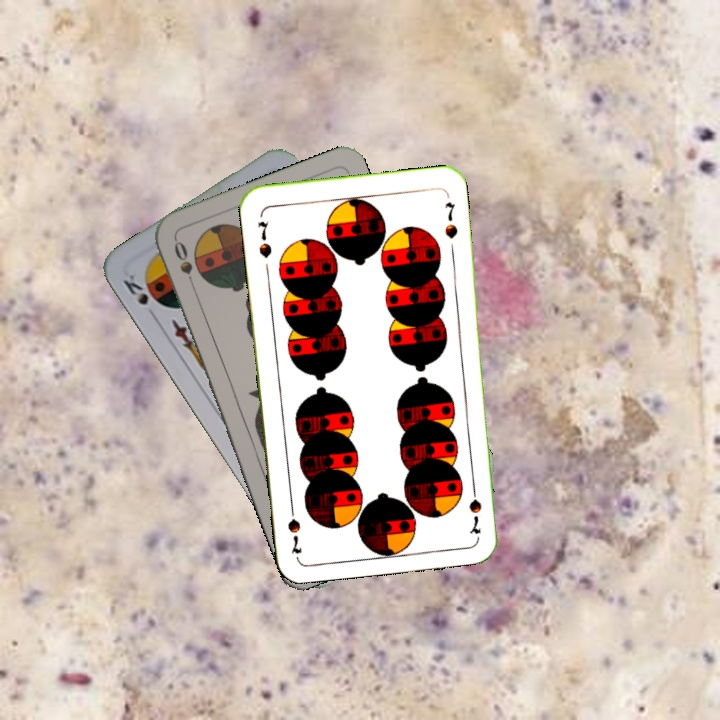S7: (465, 479, 484, 537), (254, 217, 275, 260)
SK: (119, 268, 160, 322)
SO: (170, 236, 199, 293)
